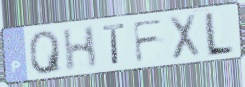F: (130, 17, 166, 65)
H: (61, 23, 99, 74)
L: (204, 10, 236, 59)
Q: (27, 29, 64, 76)
T: (101, 22, 128, 67)
X: (167, 12, 202, 63)
